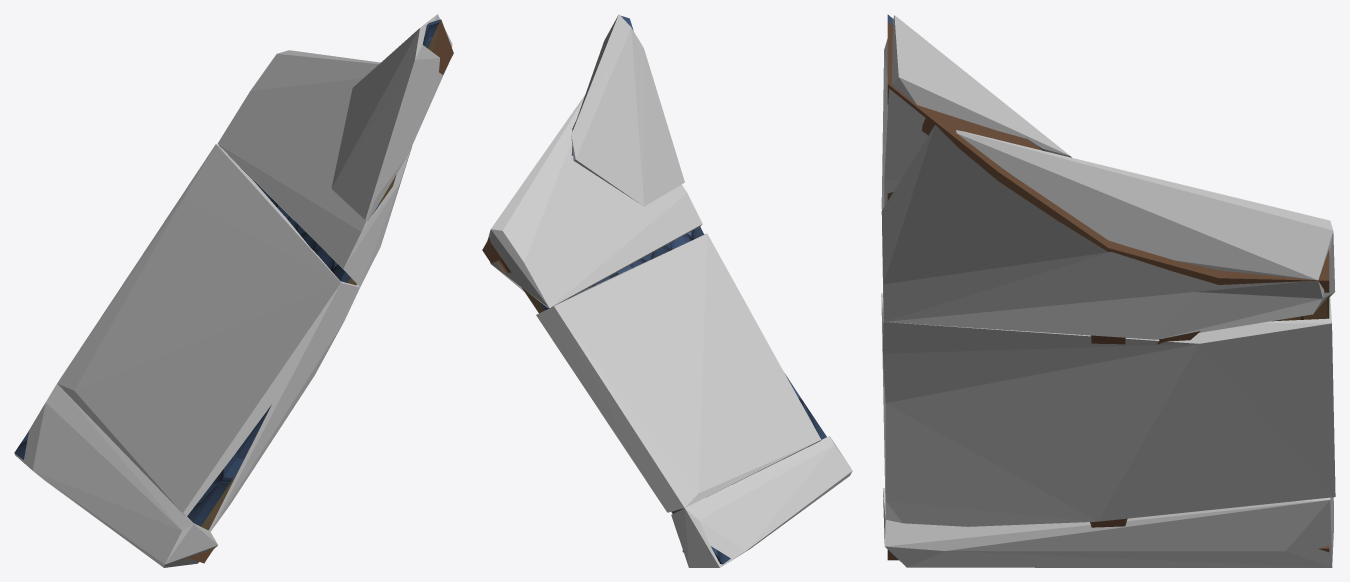
File: SM_Bld_Roof_Straight_Peak_01.fbx
3 views of the same model, side by side, from view 1: azimuth 30°, elevation 25°; view 2: azimuth 150°, elevation 25°; view 3: azimuth 270°, elevation 25° (orthographic). The views are drawn at different scales.
Parts seen in each view (by area): view 1: SM_Bld_Roof_Straight_Peak_01_ConvexHulls, SM_Bld_Roof_Straight_Peak_01; view 2: SM_Bld_Roof_Straight_Peak_01_ConvexHulls, SM_Bld_Roof_Straight_Peak_01; view 3: SM_Bld_Roof_Straight_Peak_01_ConvexHulls, SM_Bld_Roof_Straight_Peak_01.
Part boxes in pixels (x1,y1,x2,y2): SM_Bld_Roof_Straight_Peak_01_ConvexHulls: (14,14,452,567); SM_Bld_Roof_Straight_Peak_01: (14,19,453,563); SM_Bld_Roof_Straight_Peak_01_ConvexHulls: (487,14,852,567); SM_Bld_Roof_Straight_Peak_01: (482,16,826,564); SM_Bld_Roof_Straight_Peak_01_ConvexHulls: (881,15,1335,567); SM_Bld_Roof_Straight_Peak_01: (887,14,1329,560).
Size of the model in its own units: 280 by 257 by 450.
Materials: 4 (3 with a texture image).
